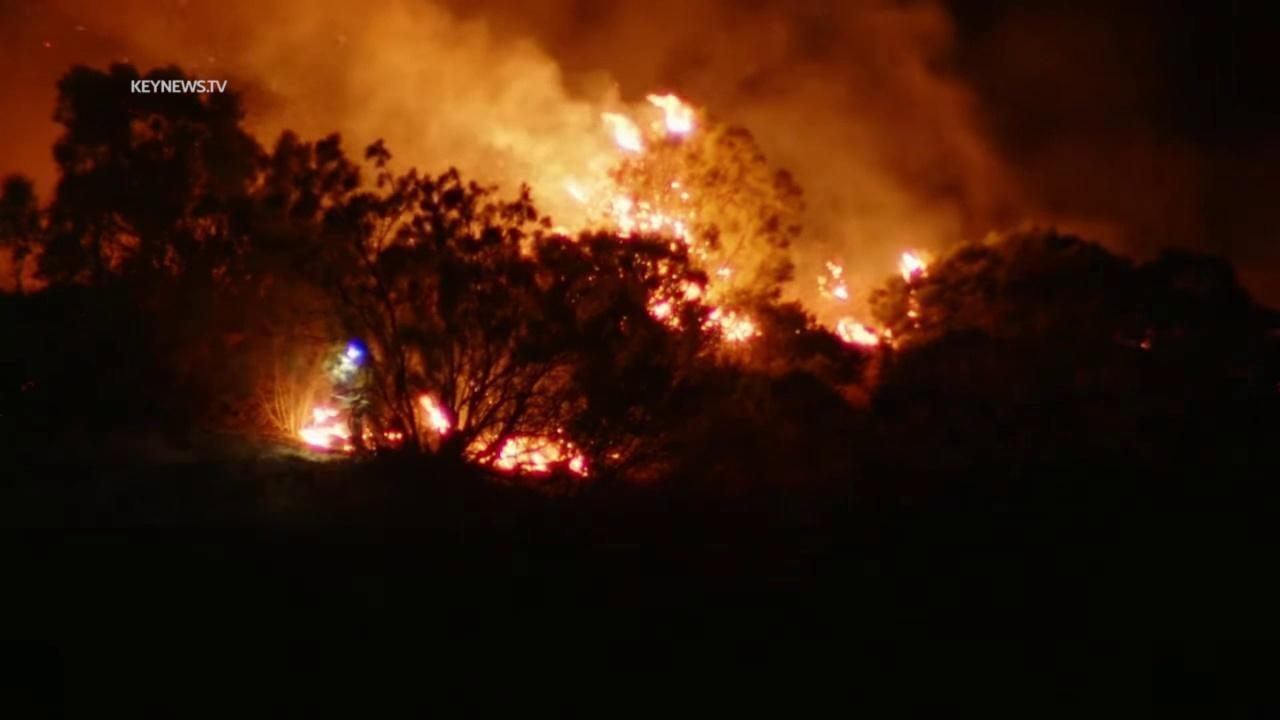fire: (599, 192, 757, 339), (475, 434, 588, 483), (300, 399, 356, 459), (899, 247, 932, 330), (645, 91, 696, 134), (601, 113, 646, 157), (416, 391, 452, 437), (816, 259, 851, 303), (836, 315, 882, 346), (386, 429, 406, 445), (604, 450, 624, 463), (1136, 340, 1153, 350)
smoke: (0, 0, 1063, 348)
